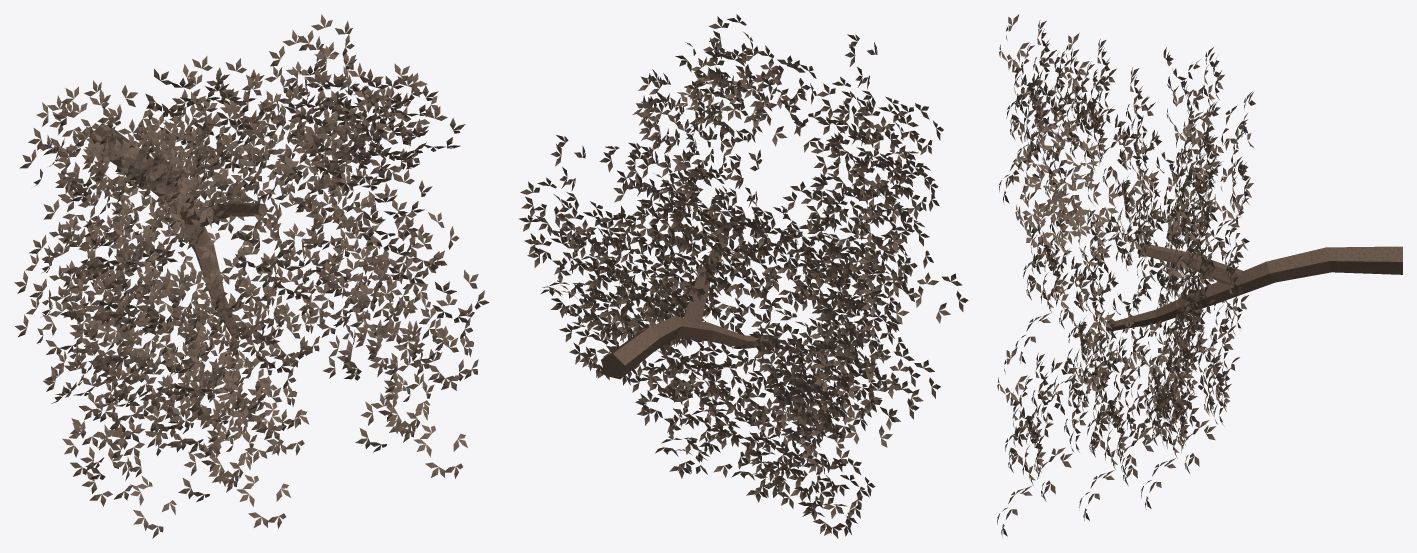
The model's file is finihed.dae.
The picture shows the model from 3 angles, left to right: view 1: azimuth 30°, elevation 25°; view 2: azimuth 150°, elevation 25°; view 3: azimuth 270°, elevation 25°; orthographic projection. The views are drawn at different scales.
Visible parts, largest first — view 1: node; view 2: node; view 3: node.
Part boxes in pixels (x1=…): node: x1=14, y1=14, x2=489, y2=538; node: x1=518, y1=14, x2=968, y2=538; node: x1=997, y1=14, x2=1402, y2=536.
Size of the model in its own units: 6.47 by 7.18 by 5.39.
1 material, 1 textured.
